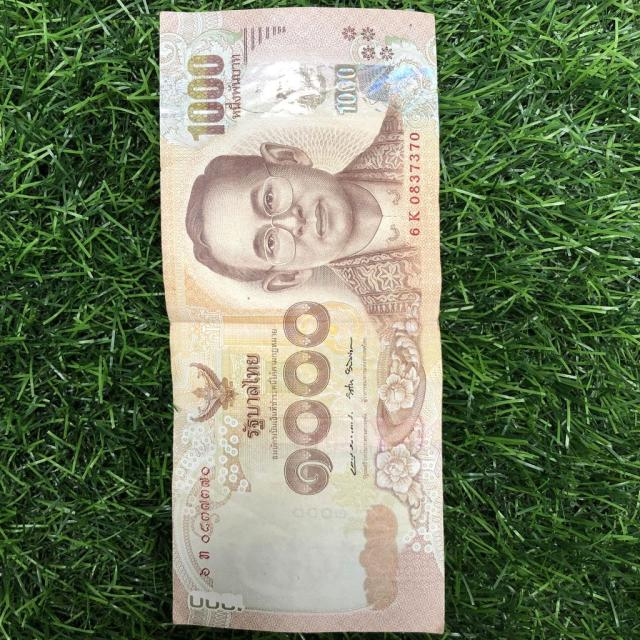THAI1000: (159, 6, 447, 638)
